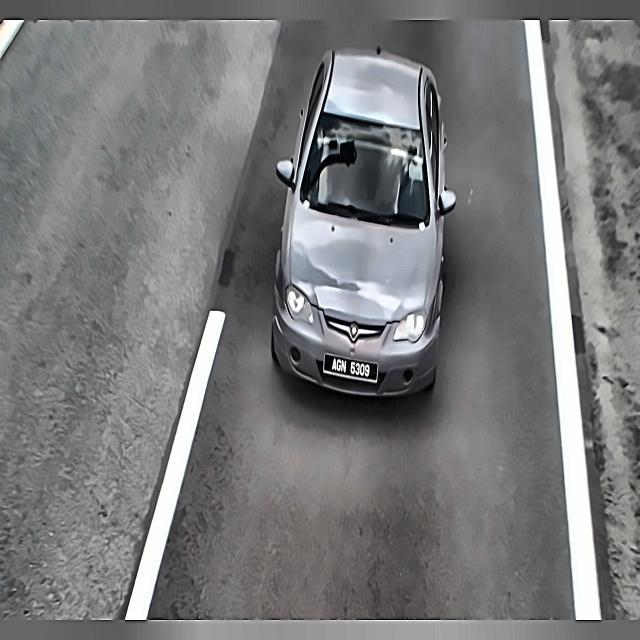car: (320, 346, 381, 388)
